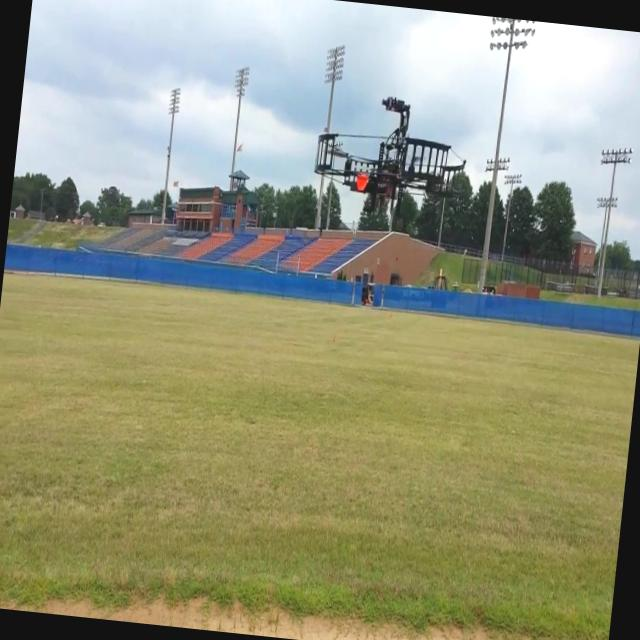drone: (311, 88, 473, 208)
